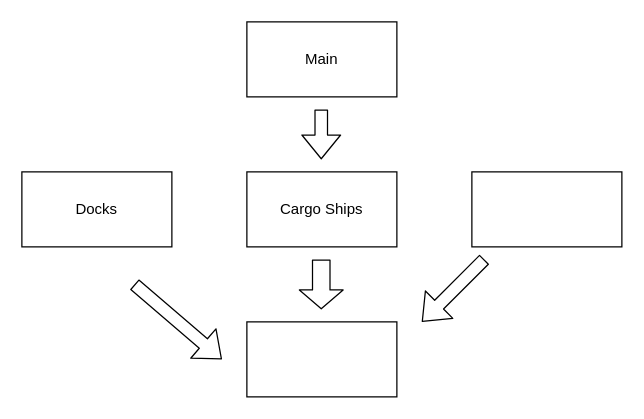
This 644x419 diagram has some shape labels left out. Here are the shapes that lost their labels. From the top down, the centre of each, then its label:
At (x=546, y=209): "Haulers".
At (x=321, y=359): "Database".
